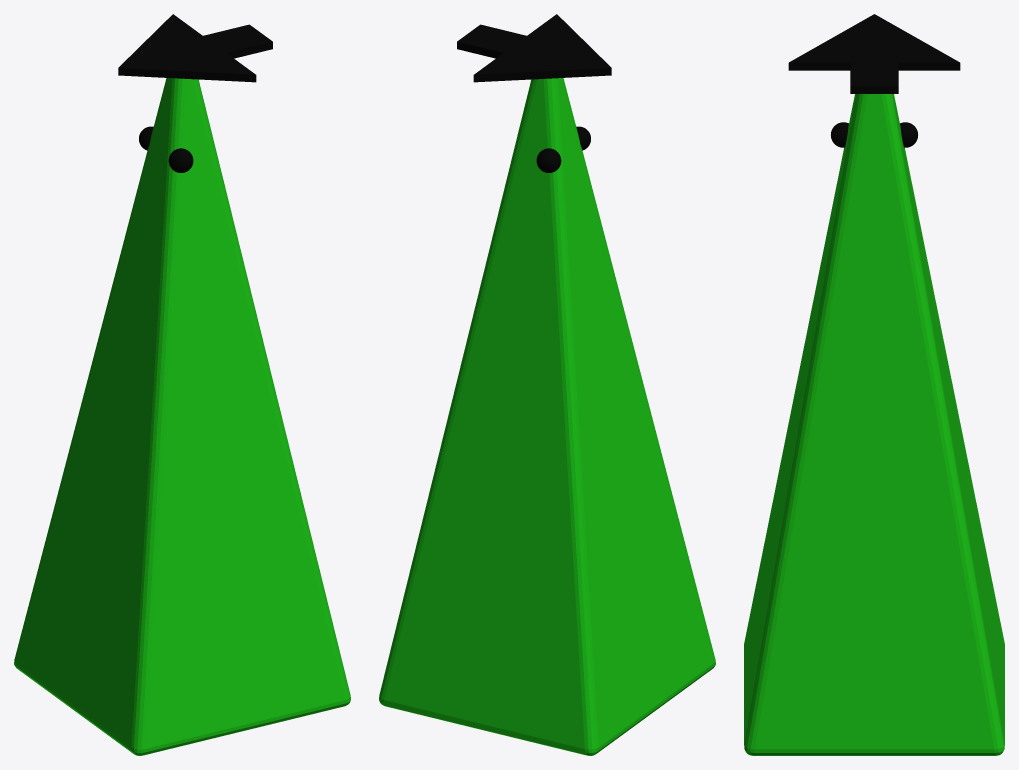
3 views of the same model, side by side, from view 1: azimuth 30°, elevation 25°; view 2: azimuth 150°, elevation 25°; view 3: azimuth 270°, elevation 25° (orthographic). The views are drawn at different scales.
Parts seen in each view (by area): view 1: Cube.019_Cube.006_Material.001, Cube.019_Cube.006_SVGMat; view 2: Cube.019_Cube.006_Material.001, Cube.019_Cube.006_SVGMat; view 3: Cube.019_Cube.006_Material.001, Cube.019_Cube.006_SVGMat.
Part boxes in pixels (<box>): Cube.019_Cube.006_Material.001: <box>14,78,350,755</box>; Cube.019_Cube.006_SVGMat: <box>118,14,272,172</box>; Cube.019_Cube.006_Material.001: <box>379,78,715,755</box>; Cube.019_Cube.006_SVGMat: <box>457,14,611,172</box>; Cube.019_Cube.006_Material.001: <box>744,94,1004,755</box>; Cube.019_Cube.006_SVGMat: <box>788,14,960,147</box>.
Bounding box in the file's own units: 0.1762 × 0.4901 × 0.1762.
